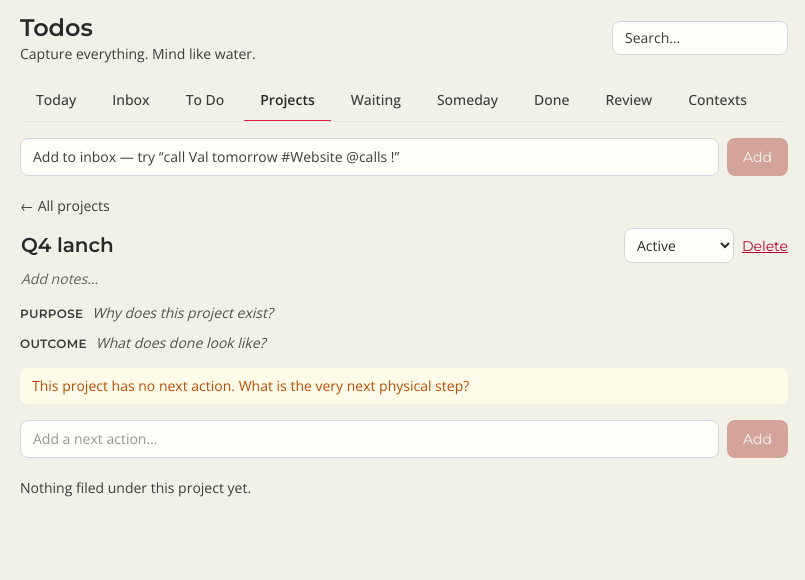
Test: ProjectDetailPage — inline notes edit (#232) › sends nothing when an empty notes field is opened and left alone
The image size is (805, 580).
Click the button titled "Click to edit" at x=60, y=279, box left=16, top=266, right=103, bottom=292
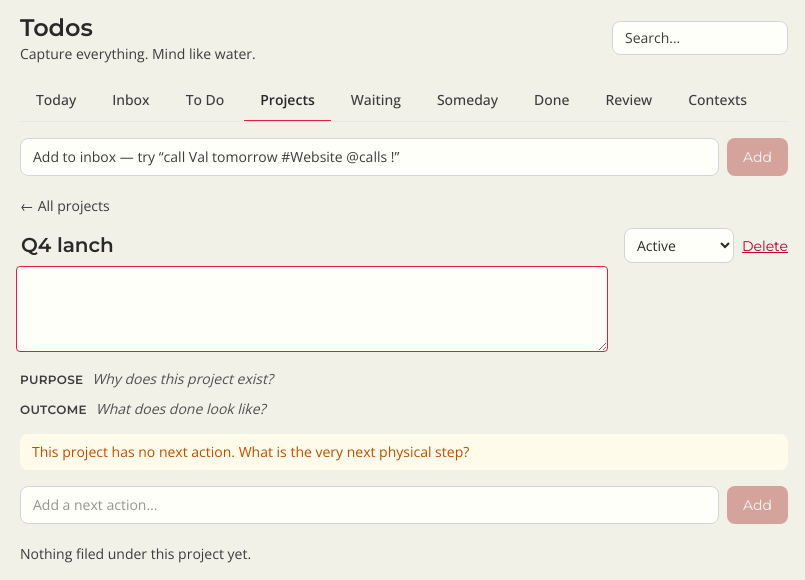
Leave the text box named "Project notes", box left=16, top=266, right=608, bottom=352
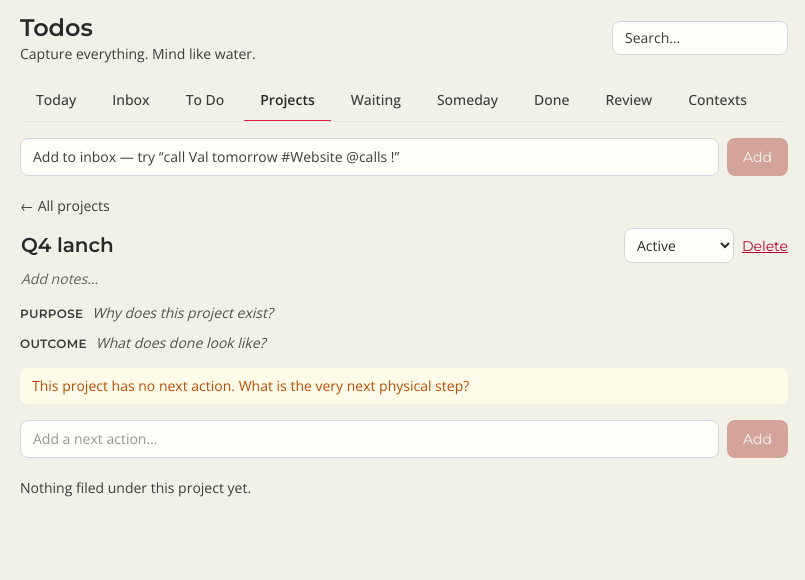
Now the button titled "Click to edit" reads "Add notes…", box left=16, top=266, right=103, bottom=292
